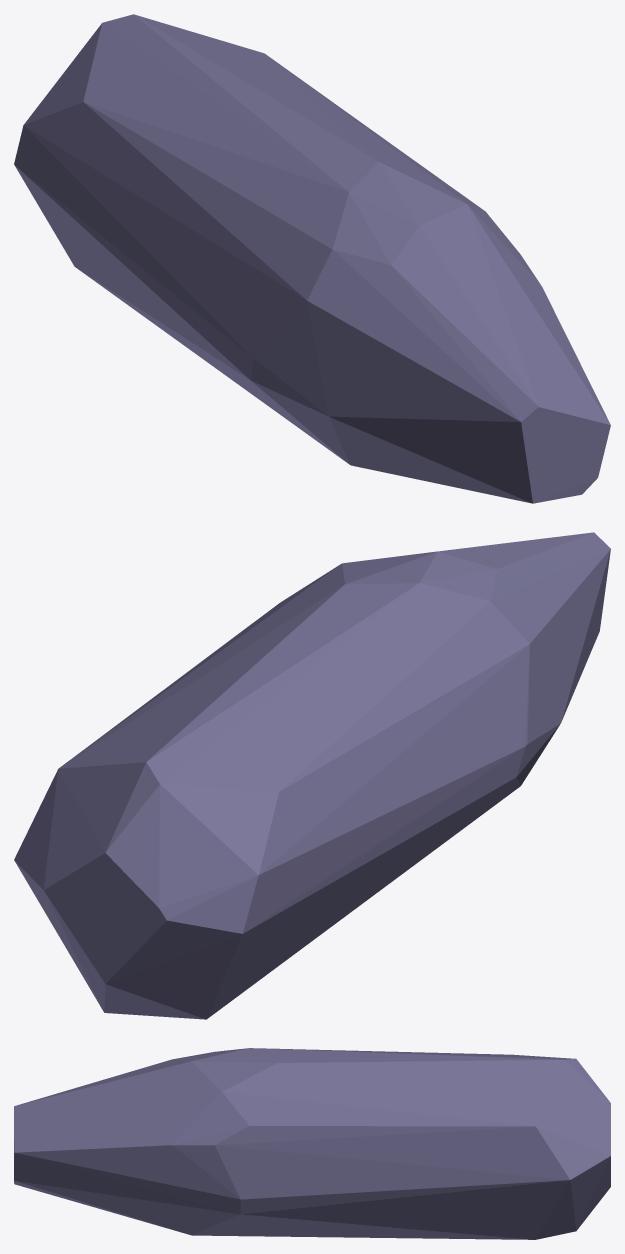
The model's file is food_beverage_bottledWater_k01.glb.
3 renders of one model, top to bottom at view 1: azimuth 30°, elevation 25°; view 2: azimuth 150°, elevation 25°; view 3: azimuth 270°, elevation 25°, orthographic. The views are drawn at different scales.
Visible parts, largest first — view 1: geometry_0; view 2: geometry_0; view 3: geometry_0.
Boxes of the visible parts, bbox=[...] form: geometry_0: bbox=[14, 14, 610, 503]; geometry_0: bbox=[14, 532, 610, 1019]; geometry_0: bbox=[14, 1048, 610, 1239].
Size of the model in its own units: 0.1567 by 0.1578 by 0.48.
